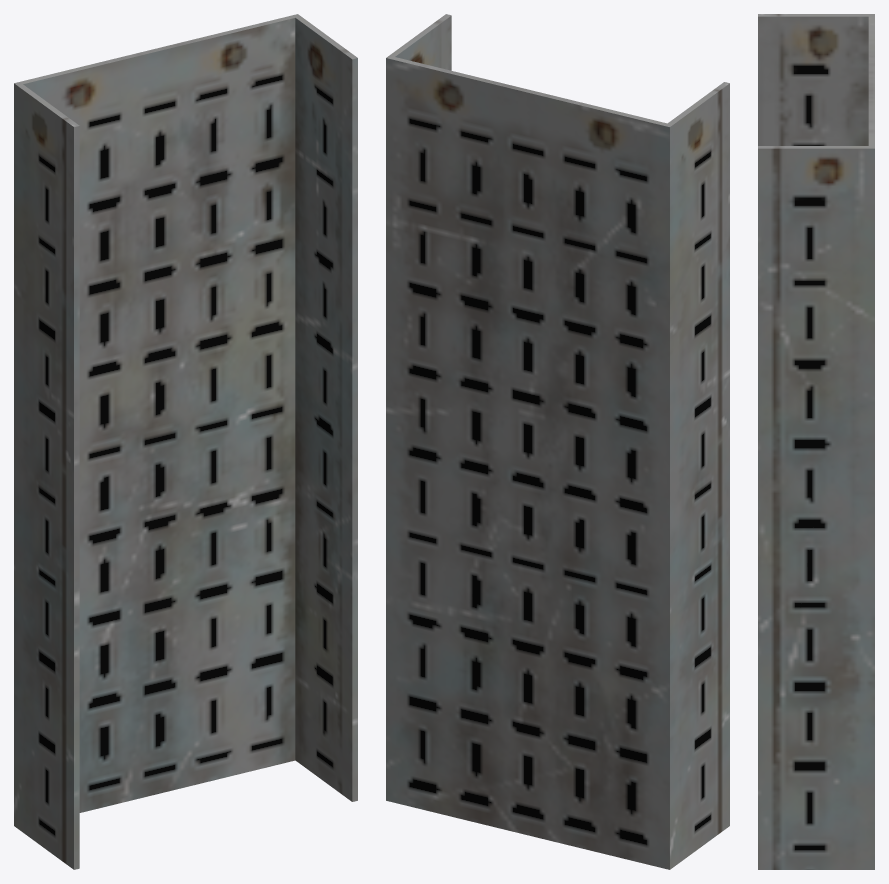
File: CableTray_04a_snaps019.fbx
The picture shows the model from 3 angles, left to right: view 1: azimuth 30°, elevation 25°; view 2: azimuth 150°, elevation 25°; view 3: azimuth 270°, elevation 25°; orthographic projection. The views are drawn at different scales.
Parts seen in each view (by area): view 1: CableTray_04a_snaps019_LOD0; view 2: CableTray_04a_snaps019_LOD0; view 3: CableTray_04a_snaps019_LOD0.
Boxes of the visible parts, x1,y1,x2,y2 form: CableTray_04a_snaps019_LOD0: [14, 14, 357, 869]; CableTray_04a_snaps019_LOD0: [386, 14, 729, 869]; CableTray_04a_snaps019_LOD0: [758, 14, 874, 869].
Size of what is drawn, in the model's own units: 0.15 by 0.375 by 0.055.
